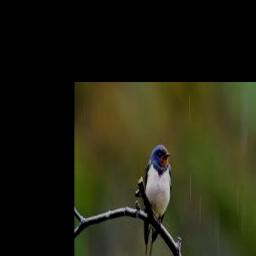Swallow: (144, 145, 172, 256)
